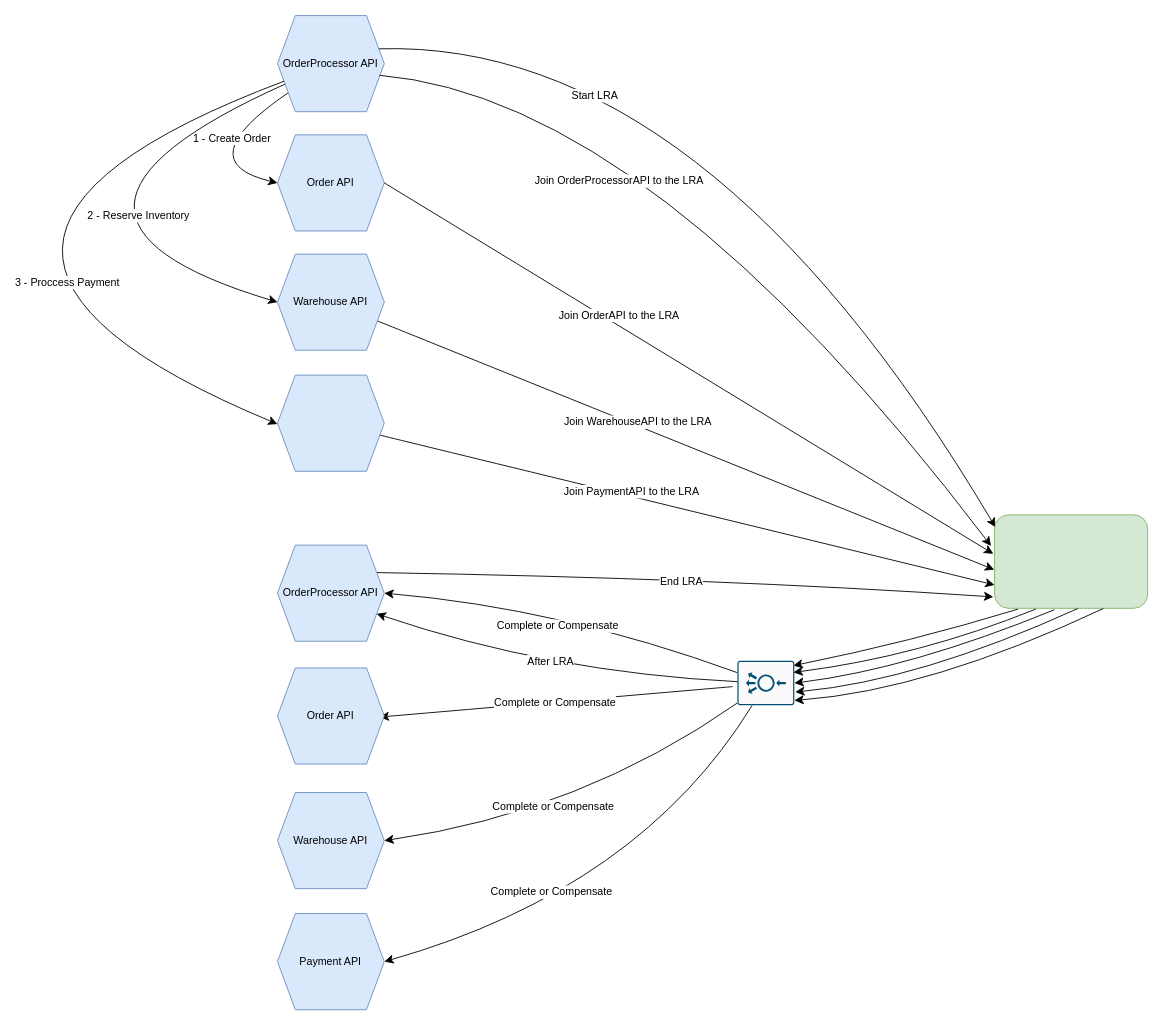
Image size: 1164x1025. Some labels were removed from this diagram. The centre of each missing label's shape, as x and y in pixels:
Coordinator: [1071,561]
Payment API-: [330,422]
